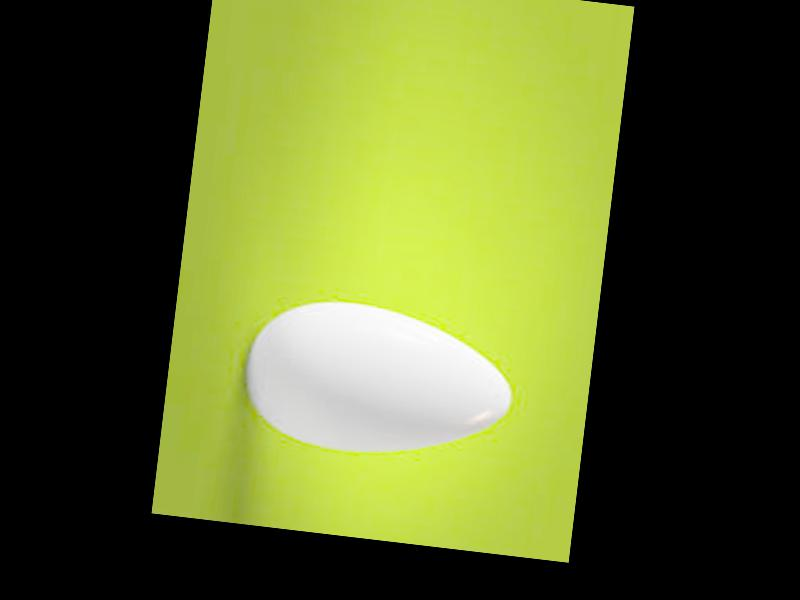Eggs: (240, 292, 523, 468)
